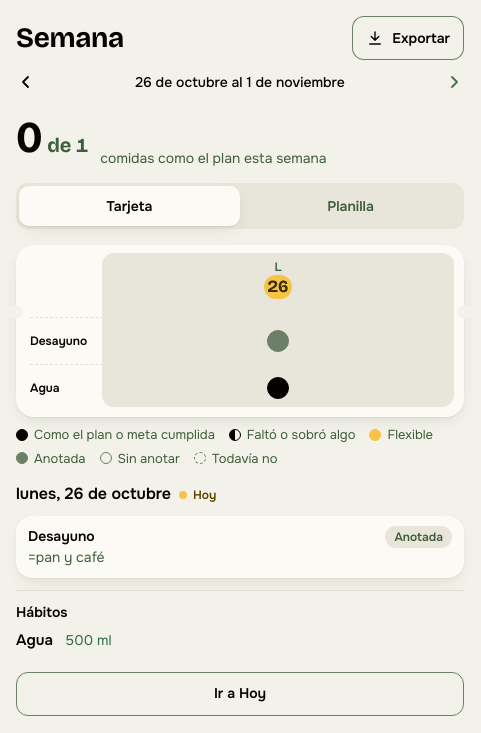
Tarjeta y Planilla se eligen con un control segmentado
The image size is (481, 733).
Expected: the radio button labelled "Tarjeta" is checked, [19,186,240,226]
Click the radio button labelled "Planilla".
click(351, 206)  # box [327,196,374,214]
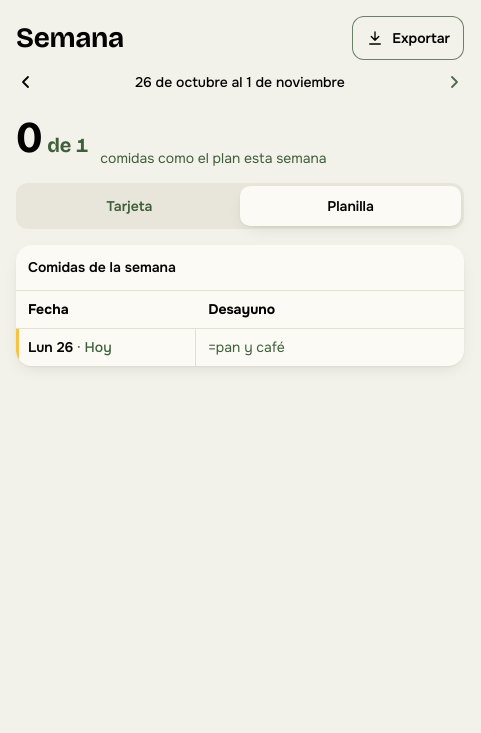
Result: the radio button labelled "Planilla" is checked at [240,186,461,226]
Result: the table is shown at [16,245,464,366]
